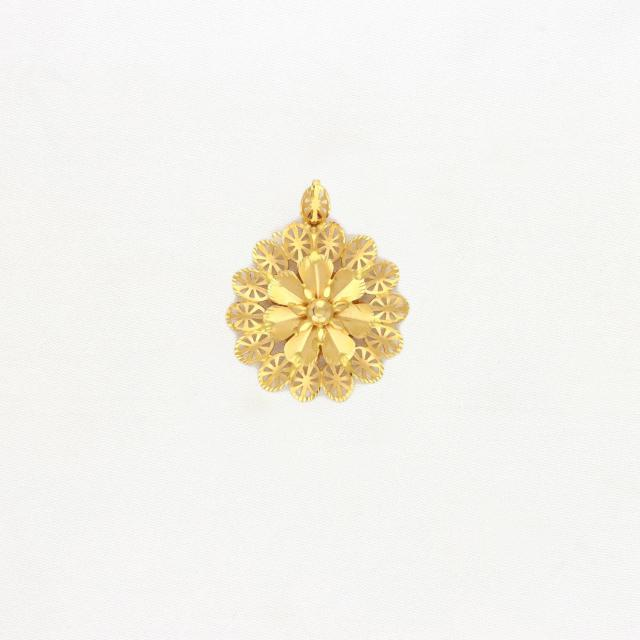missing gem: (313, 306, 325, 317)
